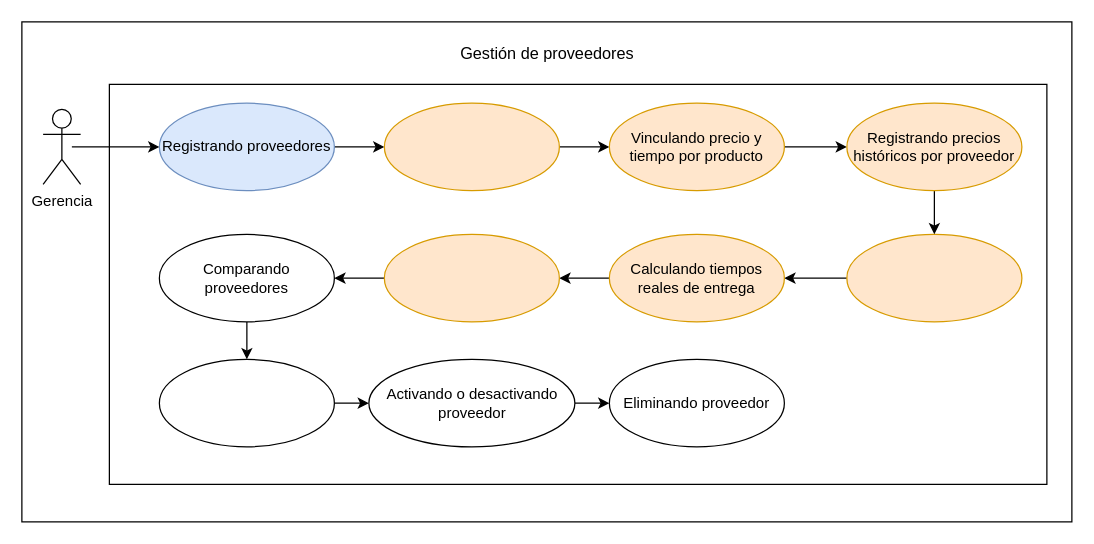
The diagram is 1094 pixels wide and 544 high, and some of its shapes have lost their labels. Each missing label, with the centre of its shape:
"Consultando historial de precios" goes at (934,277).
"Editando proveedor" goes at (246,402).
"Seleccionando producto" goes at (471,146).
"Visualizando métricas de cumplimiento" goes at (471,277).
